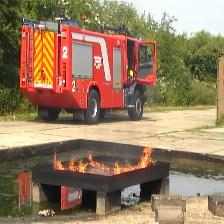fire: (114, 141, 158, 174), (87, 153, 109, 171), (69, 156, 87, 174), (53, 152, 64, 171)
